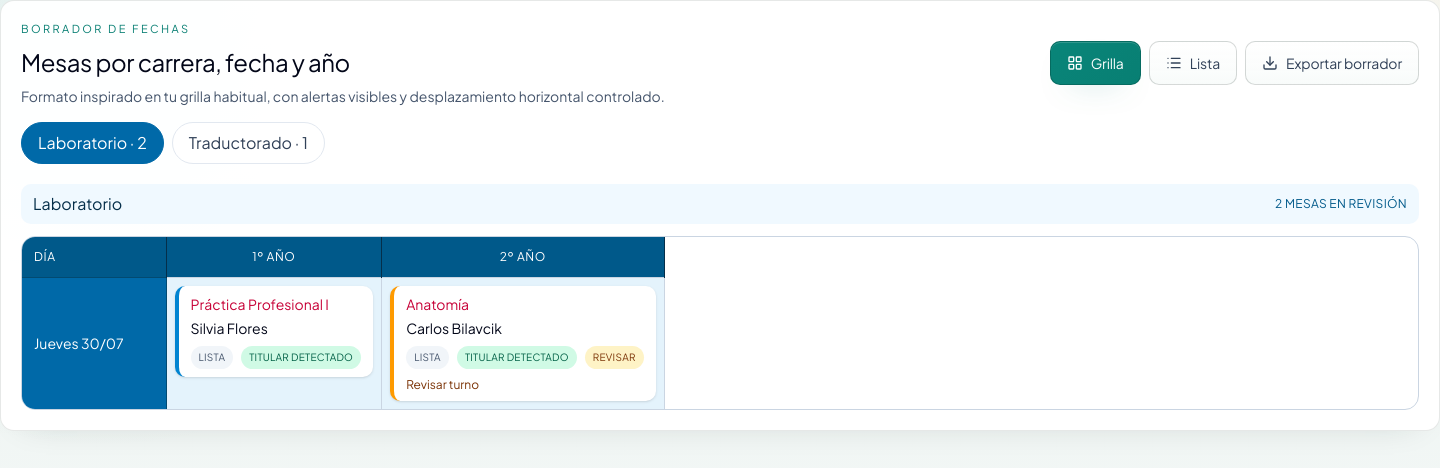
Test: DraftScheduleTable › permite cambiar de carrera y conservar una vista de lista
The image size is (1440, 468).
Click the button "Traductorado · 1": (248, 142) [172,122,325,164]
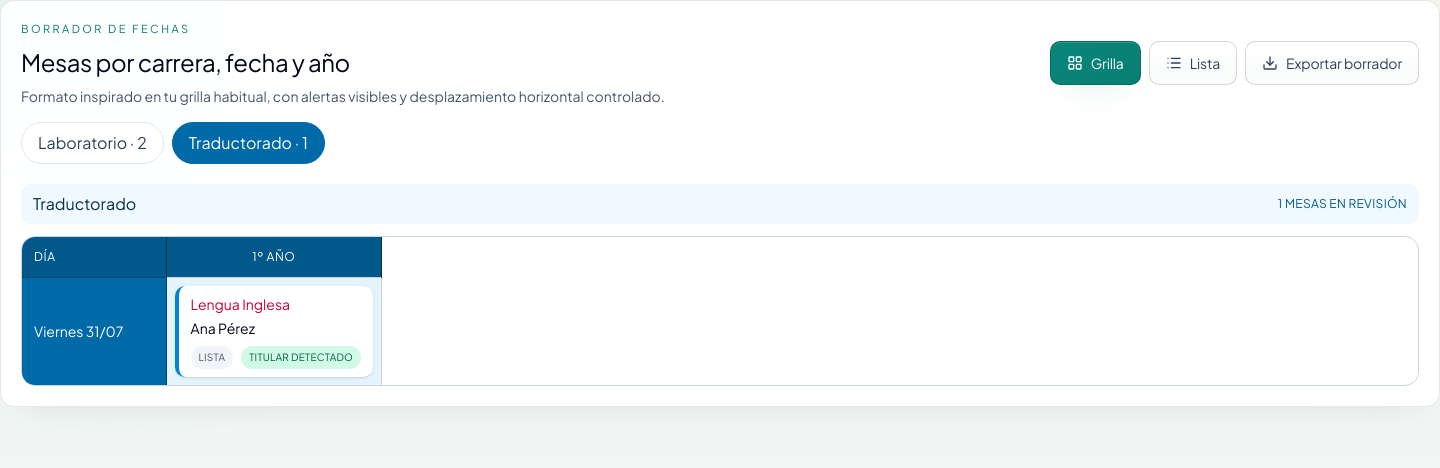
Result: the text "Lengua Inglesa" is shown at [190,294,290,312]
Result: the text "Práctica Profesional I" is gone
Click the button "Lista": (1193, 63) [1149,41,1237,85]
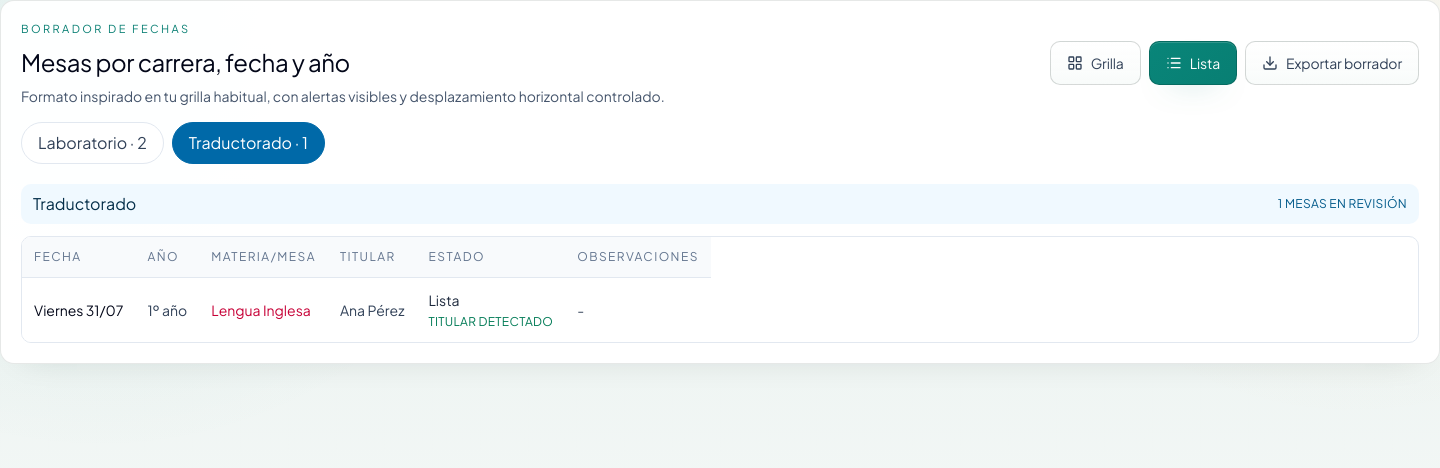
Result: the column heading "Materia/Mesa" is shown at [199,236,328,277]
